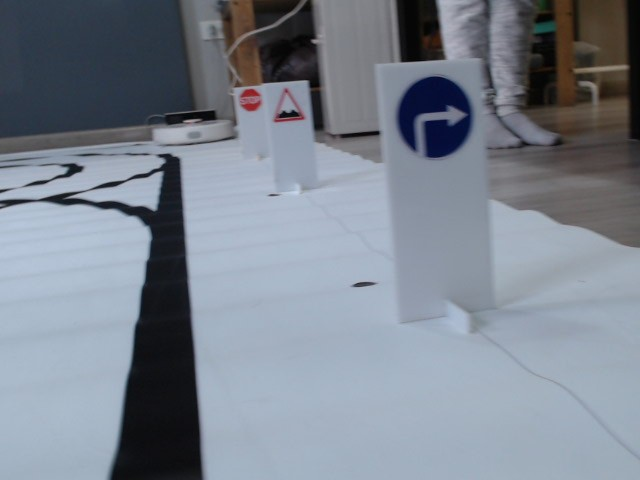Nerov: (273, 87, 307, 124)
Right: (394, 74, 474, 161)
Stop: (238, 88, 262, 112)
